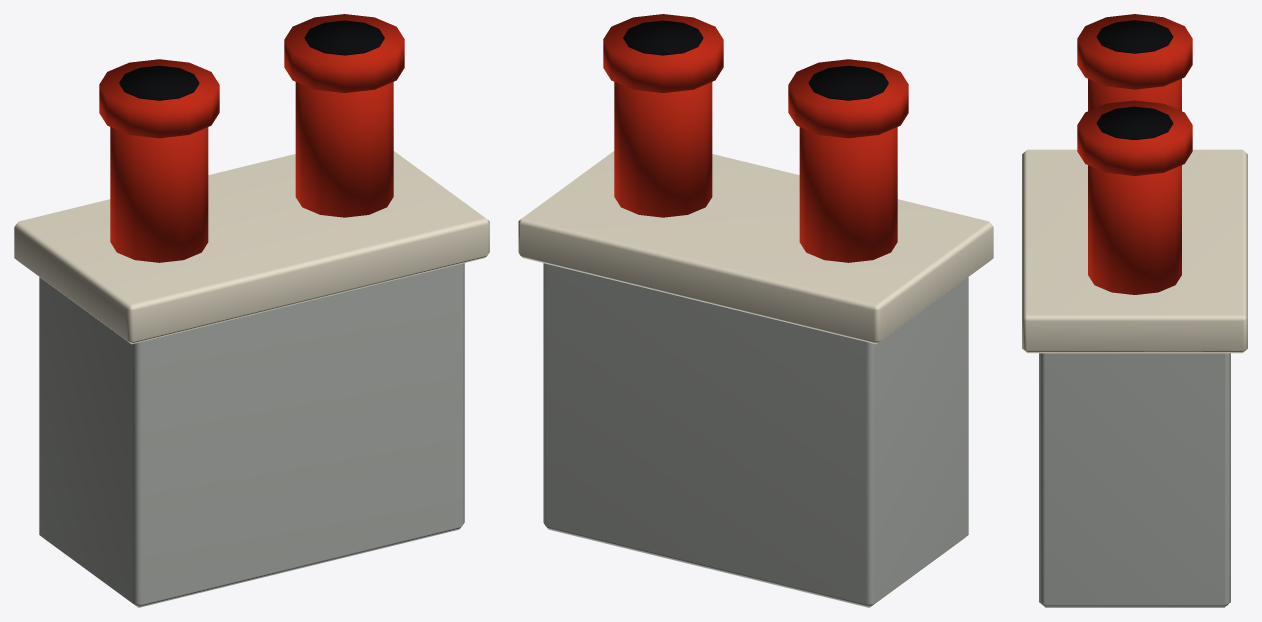
File: chimney-pair.glb
3 views of the same model, side by side, from view 1: azimuth 30°, elevation 25°; view 2: azimuth 150°, elevation 25°; view 3: azimuth 270°, elevation 25° (orthographic). The views are drawn at different scales.
Visible parts, largest first — view 1: chimney-pair; view 2: chimney-pair; view 3: chimney-pair.
Part boxes in pixels (<box>): chimney-pair: <box>14,14,489,607</box>; chimney-pair: <box>518,14,993,607</box>; chimney-pair: <box>1022,14,1247,607</box>.
Bounding box in the file's own units: 0.94 × 1.17 × 0.53.
Materials: 1 (1 with a texture image).
